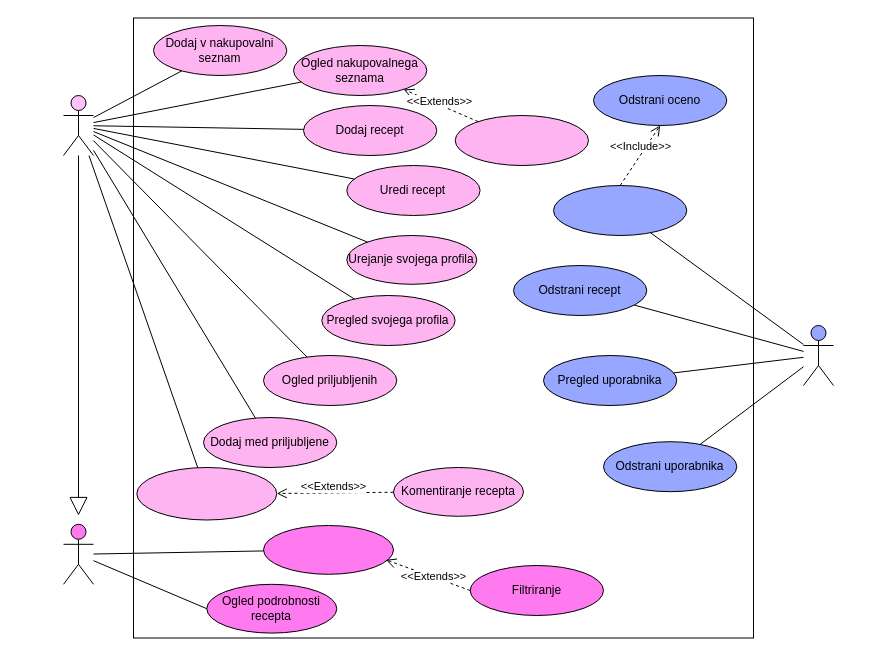
The diagram is 871 pixels wide and 655 high, and some of its shapes have lost their labels. Each missing label, with the centre of its shape:
"Administrator" belongs at (x=818, y=355).
"Gost" belongs at (x=78, y=553).
"Izvoz kupovalnega seznama v PDF" belongs at (x=521, y=140).
"Oceni recept" belongs at (x=206, y=493).
"Odstrani komentar" belongs at (x=619, y=210).
"Ogled seznama receptov" belongs at (x=328, y=549).
"Registrovani uporabnik" belongs at (x=78, y=125).
